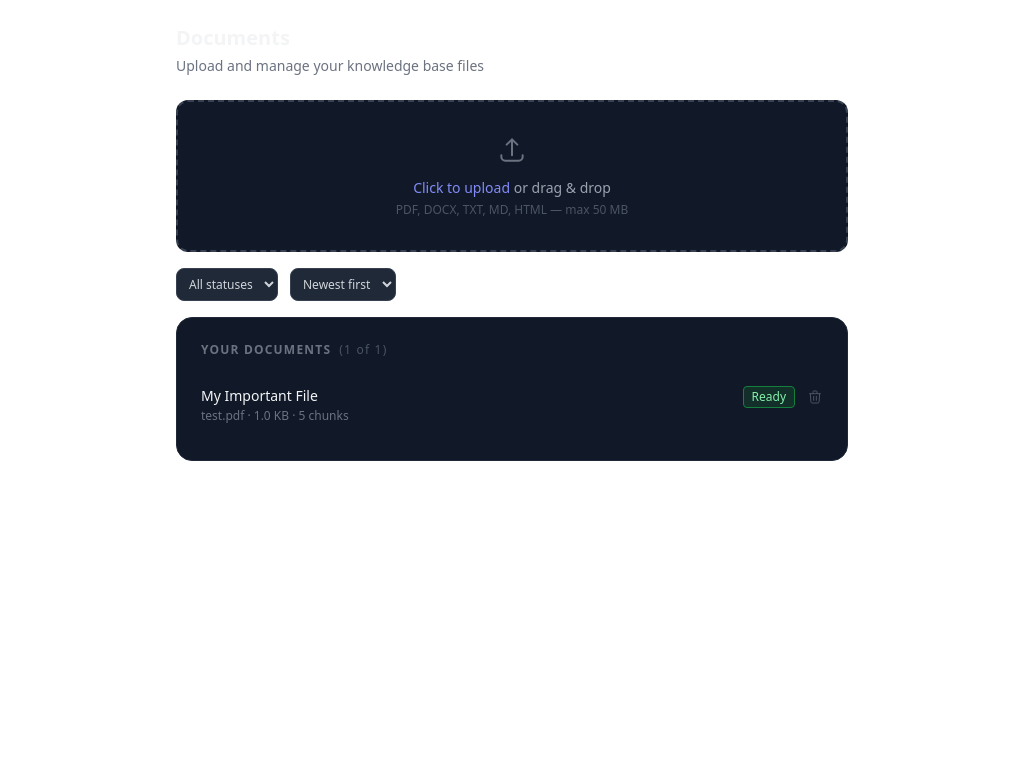
DocumentsPage › opens delete modal when delete button clicked
The image size is (1024, 768).
Click the button with test id "delete-btn-doc-1".
click(815, 397)  # box [807,389,823,405]
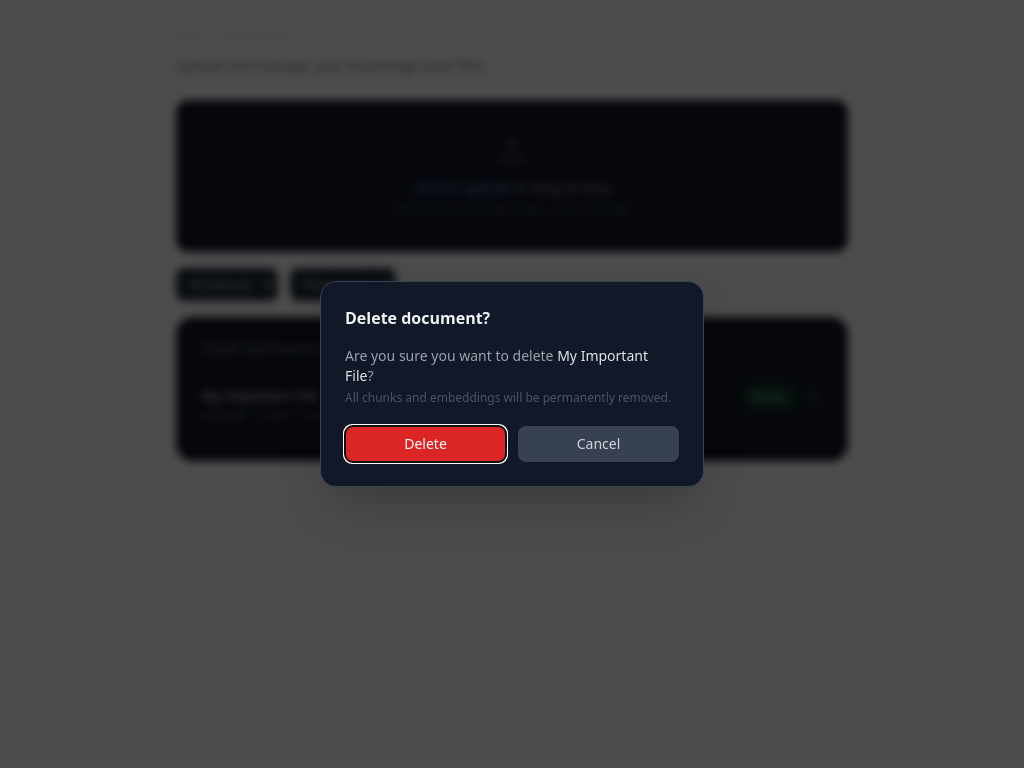
Expected: the dialog is shown
Expected: the dialog shows "My Important File", [345,346,648,385]
